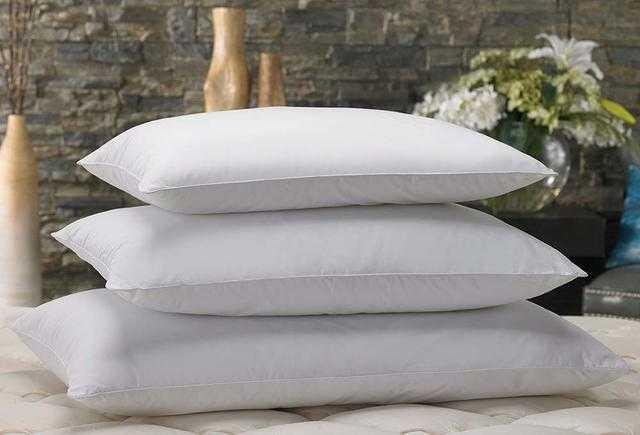pillow: (7, 286, 630, 418), (49, 200, 588, 316), (75, 104, 558, 216)
